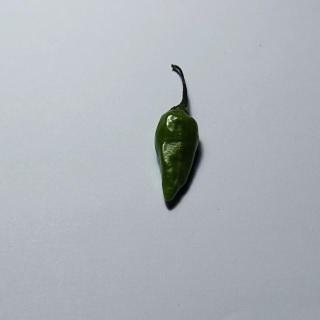Cabai Hijau: (151, 63, 205, 213)
